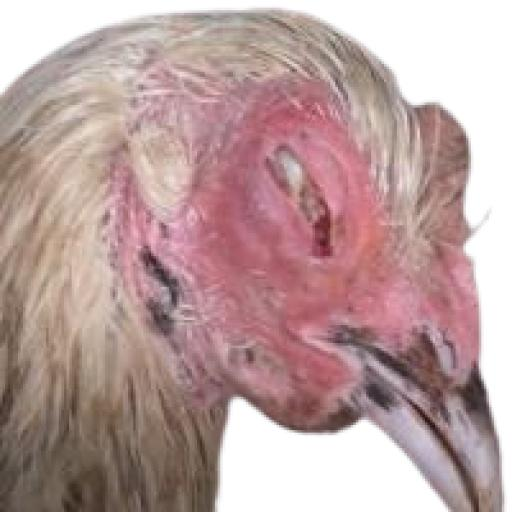disease: (204, 100, 376, 315)
